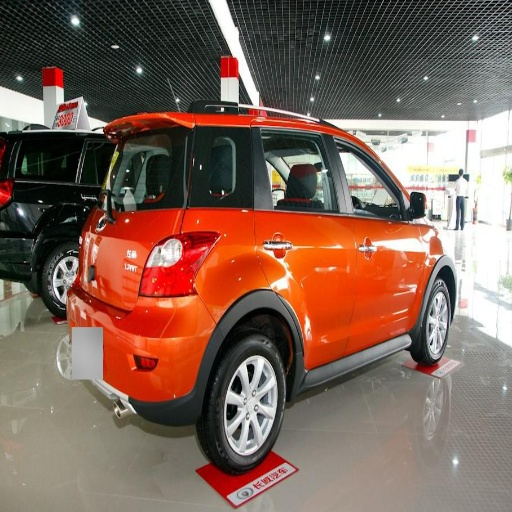back_bumper: (69, 294, 219, 424)
back_right_door: (193, 124, 361, 365)
trunk: (92, 211, 179, 315), (20, 202, 73, 245)
